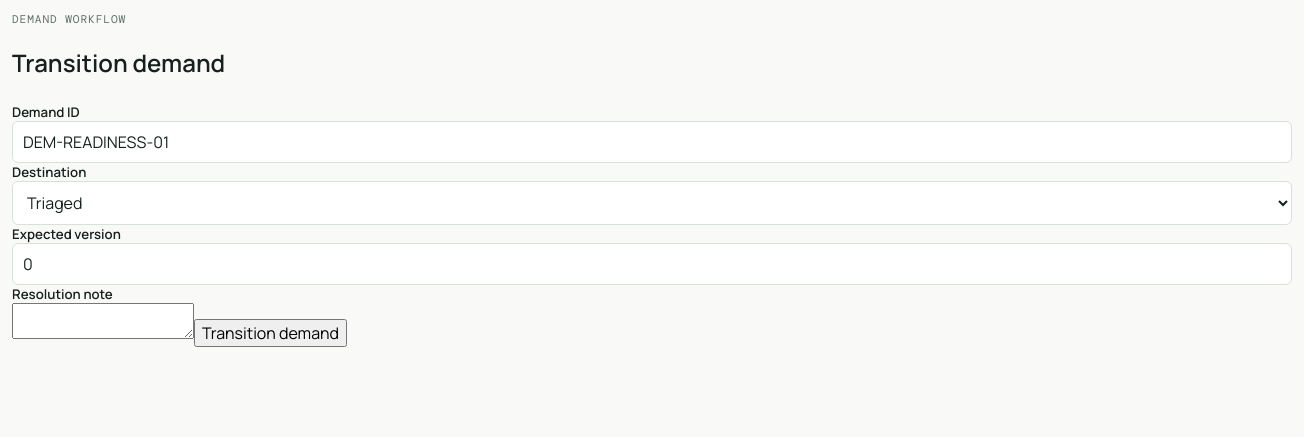
Scenario: DemandTransitionForm › submits a transition and renders the persisted result
The width and height of the screenshot is (1304, 437).
Click the button "Transition demand".
click(270, 333)  # box left=194, top=319, right=347, bottom=347
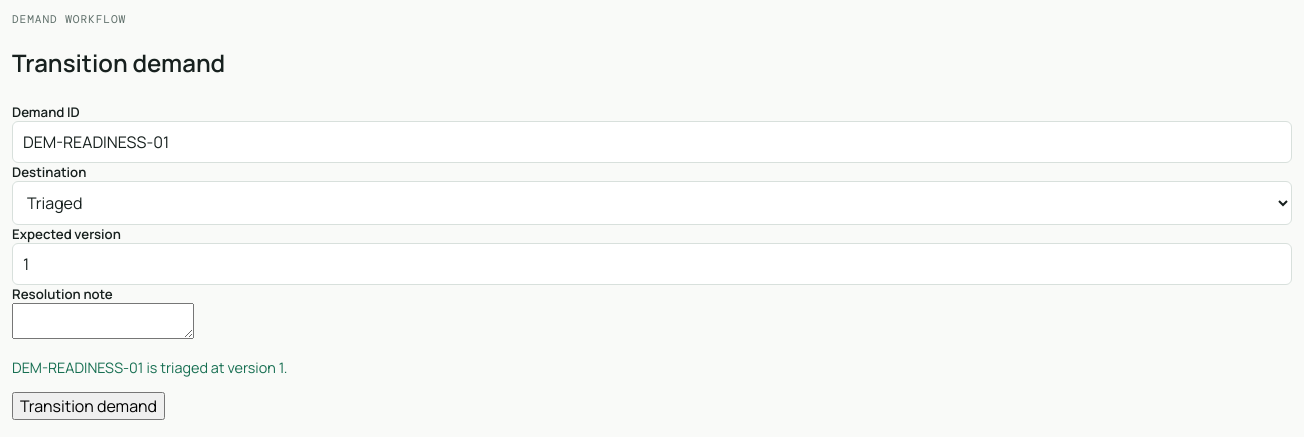
Expected: the text "DEM-READINESS-01 is triaged at version 1." is shown, left=12, top=358, right=287, bottom=377
